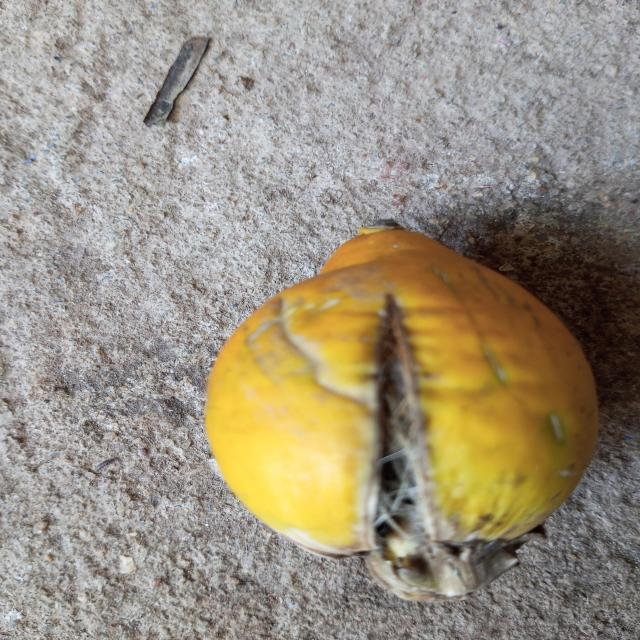damaged: (205, 220, 598, 601)
